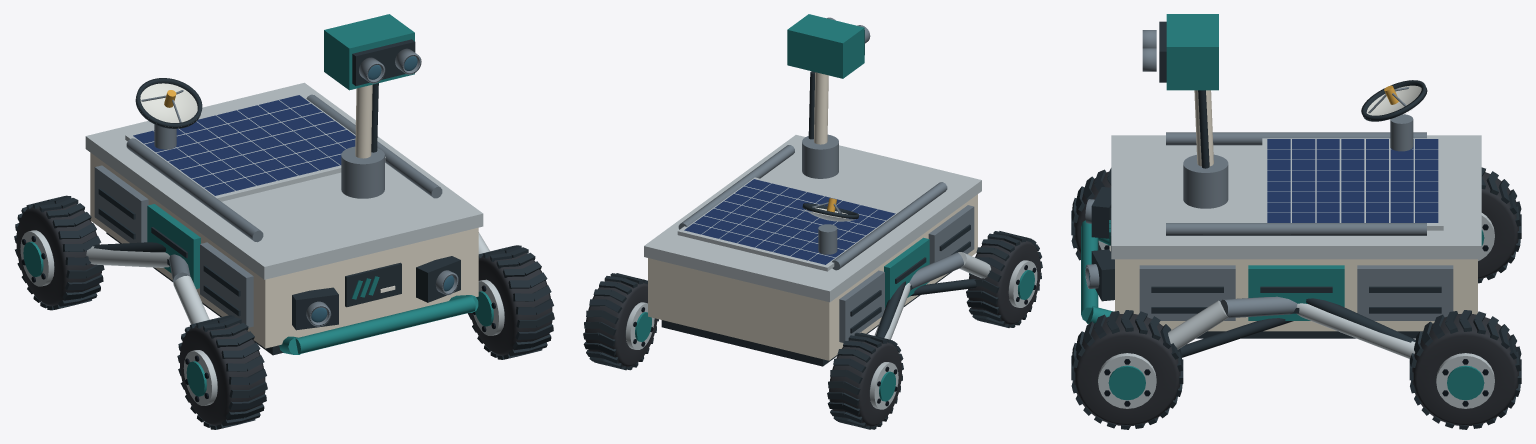
Rendered from barkhan_4.glb.
The picture shows the model from 3 angles, left to right: view 1: azimuth 30°, elevation 25°; view 2: azimuth 150°, elevation 25°; view 3: azimuth 270°, elevation 25°; orthographic projection. The views are drawn at different scales.
Parts seen in each view (by area): view 1: barkhan_4.mesh_Satin_aluminum, barkhan_4.deck_cells.mesh_Indigo_solar_cells, barkhan_4.mesh_JUGRE_ceramic_shell, barkhan_4.mesh_Machined_steel, barkhan_4.mesh_JUGRE_survey_teal, barkhan_4.mast_deployment.camera_azimuth.camera_elevation.me (×2), barkhan_4.deck_cells.mesh_Satin_aluminum, barkhan_4.rocker_left.steer_front.wheel_front.mesh_JUGRE_gra, barkhan_4.rocker_left.steer_front.wheel_front.mesh_JUGRE_fle, barkhan_4.rocker_right.steer_front.wheel_front.mesh_JUGRE_gr, barkhan_4.rocker_left.steer_rear.wheel_rear.mesh_JUGRE_graph, barkhan_4.rocker_left.steer_rear.wheel_rear.mesh_JUGRE_flexi (+16 smaller); view 2: barkhan_4.mesh_Satin_aluminum, barkhan_4.mesh_JUGRE_ceramic_shell, barkhan_4.deck_cells.mesh_Indigo_solar_cells, barkhan_4.mesh_Machined_steel, barkhan_4.mast_deployment.camera_azimuth.camera_elevation.me, barkhan_4.deck_cells.mesh_Satin_aluminum, barkhan_4.rocker_left.steer_rear.wheel_rear.mesh_JUGRE_graph, barkhan_4.rocker_left.steer_rear.wheel_rear.mesh_JUGRE_flexi, barkhan_4.rocker_right.steer_rear.wheel_rear.mesh_JUGRE_grap, barkhan_4.rocker_left.steer_front.wheel_front.mesh_JUGRE_fle, barkhan_4.rocker_right.steer_rear.wheel_rear.mesh_JUGRE_flex, barkhan_4.rocker_left.steer_front.wheel_front.mesh_JUGRE_gra (+11 smaller); view 3: barkhan_4.mesh_Satin_aluminum, barkhan_4.mesh_Machined_steel, barkhan_4.deck_cells.mesh_Indigo_solar_cells, barkhan_4.mesh_JUGRE_ceramic_shell, barkhan_4.rocker_right.steer_rear.wheel_rear.mesh_JUGRE_flex, barkhan_4.rocker_right.steer_front.wheel_front.mesh_JUGRE_fl, barkhan_4.mesh_JUGRE_survey_teal, barkhan_4.mast_deployment.camera_azimuth.camera_elevation.me (×2), barkhan_4.deck_cells.mesh_Satin_aluminum, barkhan_4.mesh_JUGRE_graphite, barkhan_4.rocker_right.mesh_Satin_aluminum, barkhan_4.rocker_right.steer_rear.wheel_rear.mesh_JUGRE_grap (+19 smaller).
Boxes of the visible parts, x1=… form: barkhan_4.mesh_Satin_aluminum: x1=85, y1=82, x2=483, y2=279; barkhan_4.deck_cells.mesh_Indigo_solar_cells: x1=133, y1=95, x2=355, y2=195; barkhan_4.mesh_JUGRE_ceramic_shell: x1=90, y1=152, x2=478, y2=348; barkhan_4.mesh_Machined_steel: x1=94, y1=94, x2=442, y2=327; barkhan_4.mesh_JUGRE_survey_teal: x1=147, y1=204, x2=478, y2=354; barkhan_4.mast_deployment.camera_azimuth.camera_elevation.me (×2): x1=324, y1=14, x2=415, y2=90; barkhan_4.deck_cells.mesh_Satin_aluminum: x1=125, y1=92, x2=385, y2=201; barkhan_4.rocker_left.steer_front.wheel_front.mesh_JUGRE_gra: x1=177, y1=315, x2=267, y2=429; barkhan_4.rocker_left.steer_front.wheel_front.mesh_JUGRE_fle: x1=179, y1=321, x2=265, y2=426; barkhan_4.rocker_right.steer_front.wheel_front.mesh_JUGRE_gr: x1=468, y1=245, x2=554, y2=359; barkhan_4.rocker_left.steer_rear.wheel_rear.mesh_JUGRE_graph: x1=14, y1=195, x2=104, y2=310; barkhan_4.rocker_left.steer_rear.wheel_rear.mesh_JUGRE_flexi: x1=16, y1=202, x2=101, y2=306; barkhan_4.mesh_Satin_aluminum: x1=644, y1=135, x2=981, y2=302; barkhan_4.mesh_JUGRE_ceramic_shell: x1=648, y1=194, x2=977, y2=360; barkhan_4.deck_cells.mesh_Indigo_solar_cells: x1=684, y1=179, x2=895, y2=264; barkhan_4.mesh_Machined_steel: x1=678, y1=145, x2=974, y2=342; barkhan_4.mast_deployment.camera_azimuth.camera_elevation.me: x1=787, y1=14, x2=864, y2=78; barkhan_4.deck_cells.mesh_Satin_aluminum: x1=677, y1=177, x2=898, y2=271; barkhan_4.rocker_left.steer_rear.wheel_rear.mesh_JUGRE_graph: x1=827, y1=332, x2=903, y2=429; barkhan_4.rocker_left.steer_rear.wheel_rear.mesh_JUGRE_flexi: x1=829, y1=340, x2=901, y2=427; barkhan_4.rocker_right.steer_rear.wheel_rear.mesh_JUGRE_grap: x1=583, y1=273, x2=658, y2=370; barkhan_4.rocker_left.steer_front.wheel_front.mesh_JUGRE_fle: x1=968, y1=238, x2=1040, y2=325; barkhan_4.rocker_right.steer_rear.wheel_rear.mesh_JUGRE_flex: x1=585, y1=280, x2=657, y2=367; barkhan_4.rocker_left.steer_front.wheel_front.mesh_JUGRE_gra: x1=966, y1=231, x2=1042, y2=327; barkhan_4.mesh_Satin_aluminum: x1=1111, y1=135, x2=1481, y2=259; barkhan_4.mesh_Machined_steel: x1=1139, y1=132, x2=1453, y2=320; barkhan_4.deck_cells.mesh_Indigo_solar_cells: x1=1267, y1=139, x2=1438, y2=222; barkhan_4.mesh_JUGRE_ceramic_shell: x1=1115, y1=259, x2=1477, y2=331; barkhan_4.rocker_right.steer_rear.wheel_rear.mesh_JUGRE_flex: x1=1412, y1=314, x2=1518, y2=425; barkhan_4.rocker_right.steer_front.wheel_front.mesh_JUGRE_fl: x1=1074, y1=314, x2=1180, y2=425; barkhan_4.mesh_JUGRE_survey_teal: x1=1081, y1=220, x2=1344, y2=323; barkhan_4.mast_deployment.camera_azimuth.camera_elevation.me (×2): x1=1159, y1=14, x2=1218, y2=90; barkhan_4.deck_cells.mesh_Satin_aluminum: x1=1262, y1=136, x2=1443, y2=230; barkhan_4.mesh_JUGRE_graphite: x1=1151, y1=286, x2=1441, y2=338; barkhan_4.rocker_right.mesh_Satin_aluminum: x1=1168, y1=300, x2=1415, y2=358; barkhan_4.rocker_right.steer_rear.wheel_rear.mesh_JUGRE_grap: x1=1409, y1=310, x2=1521, y2=429.
Size of the model in its own units: 1.66 by 1.51 by 1.84.
